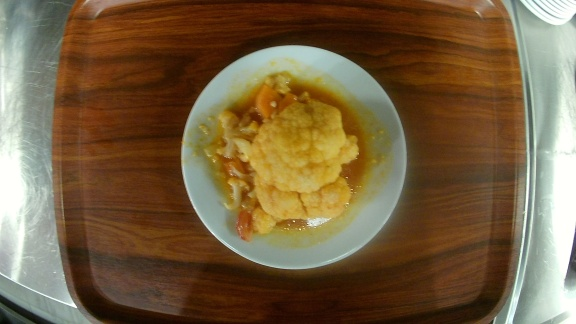karnibahar: (180, 44, 409, 271)
